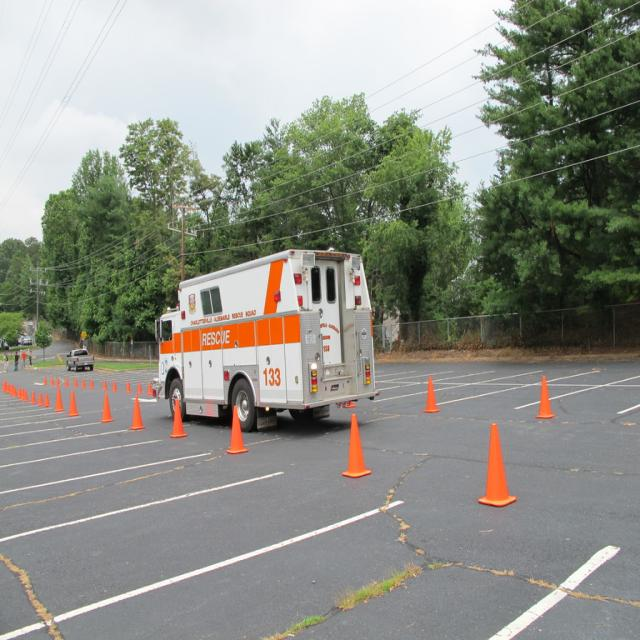Heavy Duty Truck: (157, 252, 381, 432)
